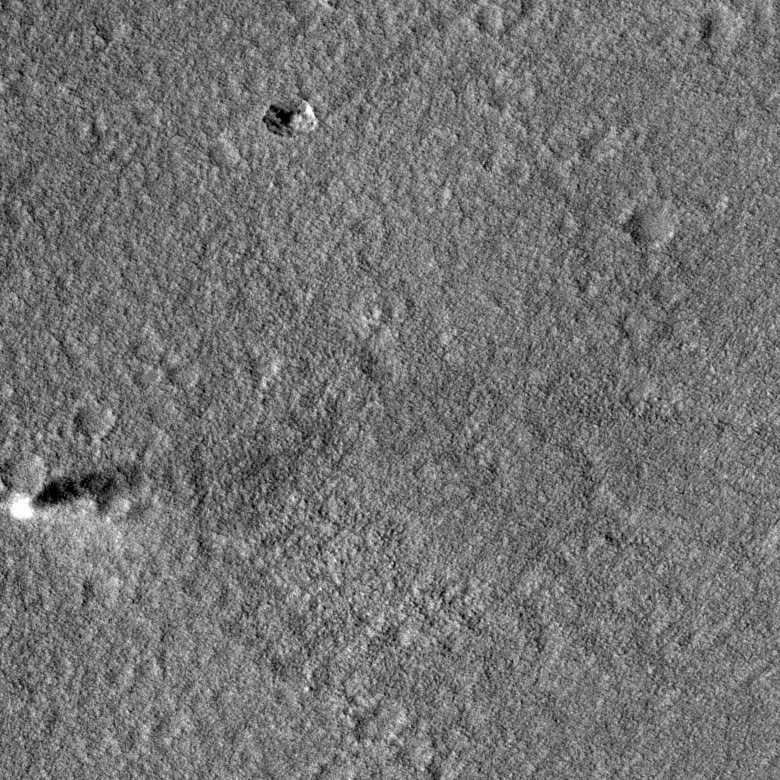dust_devil: (8, 462, 147, 522)
